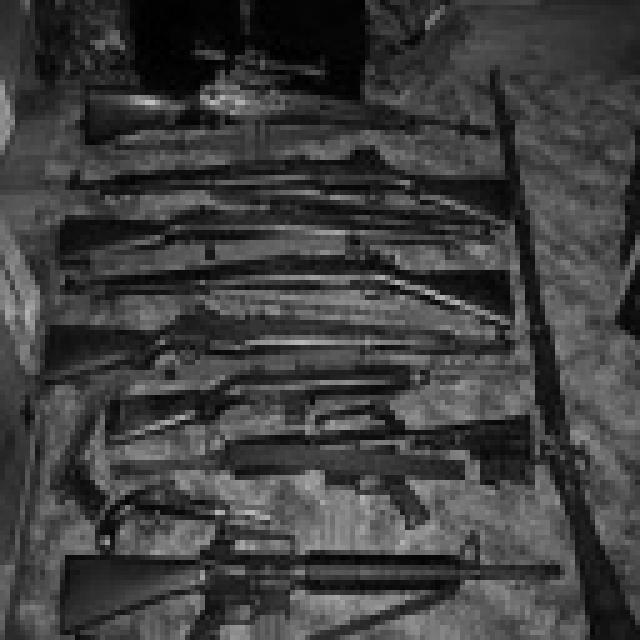Rifle: (447, 20, 640, 640), (26, 518, 568, 640), (60, 32, 510, 154), (40, 225, 551, 332), (10, 290, 540, 388), (94, 426, 510, 538), (50, 137, 561, 214), (40, 189, 514, 271), (19, 400, 145, 546), (100, 388, 482, 430)
